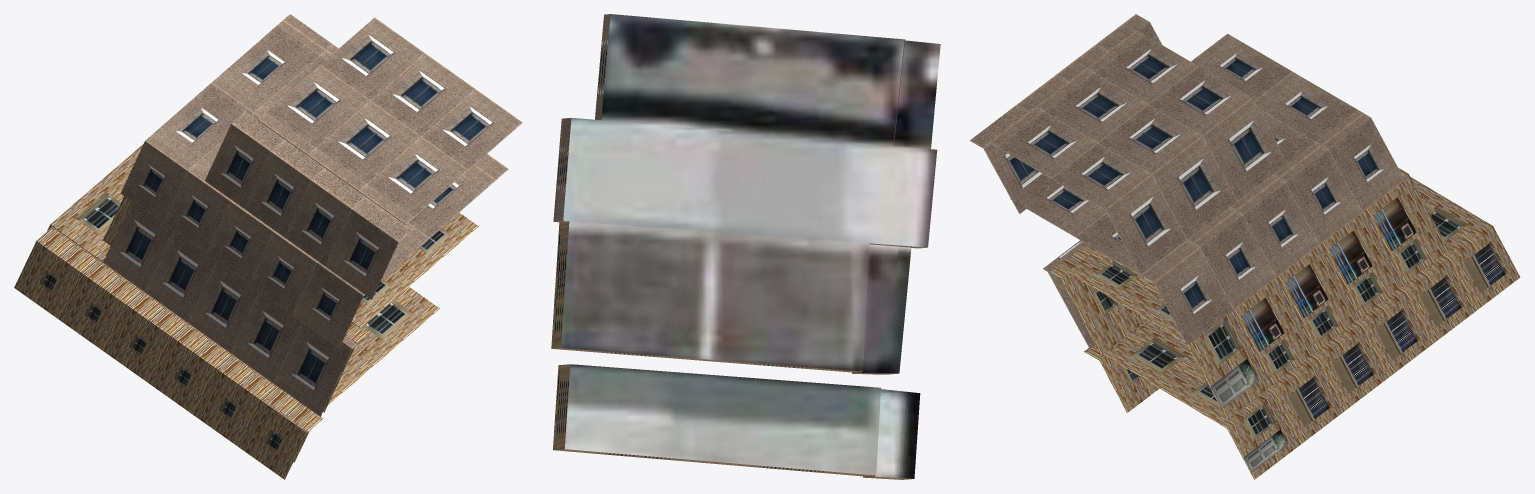
3 renders of one model, left to right at view 1: azimuth 30°, elevation 25°; view 2: azimuth 150°, elevation 25°; view 3: azimuth 270°, elevation 25°, orthographic. The views are drawn at different scales.
Bounding box in the file's own units: 25.05 × 23.27 × 30.17.
26 materials, 26 textured.
